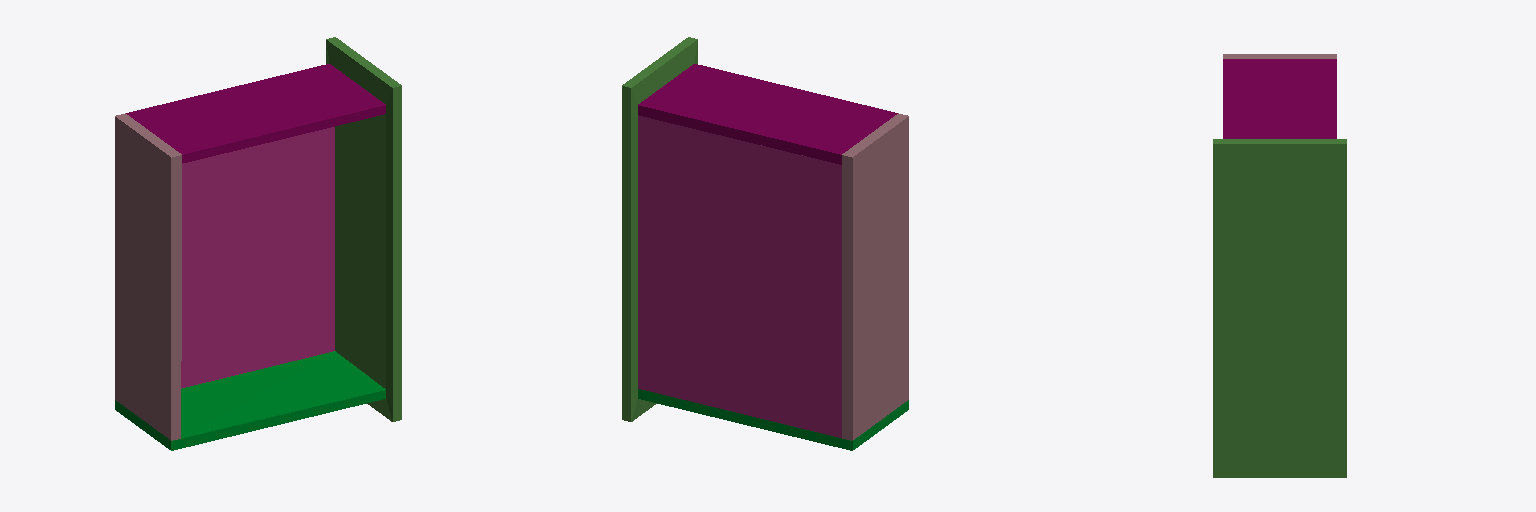
Rendered from Drawer_80_29.obj.
3 views of the same model, side by side, from view 1: azimuth 30°, elevation 25°; view 2: azimuth 150°, elevation 25°; view 3: azimuth 270°, elevation 25° (orthographic).
Visible parts, largest first — view 1: Shape_IndexedFaceSet.004_Shape_IndexedFaceSet.008, Shape_IndexedFaceSet_Shape_IndexedFaceSet.008, Shape_IndexedFaceSet.002_Shape_IndexedFaceSet.008, Shape_IndexedFaceSet.003_Shape_IndexedFaceSet.008, Shape_IndexedFaceSet.001_Shape_IndexedFaceSet.008; view 2: Shape_IndexedFaceSet.004_Shape_IndexedFaceSet.008, Shape_IndexedFaceSet.002_Shape_IndexedFaceSet.008, Shape_IndexedFaceSet.003_Shape_IndexedFaceSet.008, Shape_IndexedFaceSet_Shape_IndexedFaceSet.008, Shape_IndexedFaceSet.001_Shape_IndexedFaceSet.008; view 3: Shape_IndexedFaceSet_Shape_IndexedFaceSet.008, Shape_IndexedFaceSet.003_Shape_IndexedFaceSet.008, Shape_IndexedFaceSet.002_Shape_IndexedFaceSet.008.
Part boxes in pixels (bbox=[...]): Shape_IndexedFaceSet.004_Shape_IndexedFaceSet.008: bbox=[181, 127, 334, 388]; Shape_IndexedFaceSet_Shape_IndexedFaceSet.008: bbox=[326, 37, 401, 421]; Shape_IndexedFaceSet.002_Shape_IndexedFaceSet.008: bbox=[115, 113, 181, 440]; Shape_IndexedFaceSet.003_Shape_IndexedFaceSet.008: bbox=[126, 64, 385, 163]; Shape_IndexedFaceSet.001_Shape_IndexedFaceSet.008: bbox=[115, 351, 385, 450]; Shape_IndexedFaceSet.004_Shape_IndexedFaceSet.008: bbox=[638, 115, 841, 437]; Shape_IndexedFaceSet.002_Shape_IndexedFaceSet.008: bbox=[842, 113, 908, 440]; Shape_IndexedFaceSet.003_Shape_IndexedFaceSet.008: bbox=[638, 64, 897, 164]; Shape_IndexedFaceSet_Shape_IndexedFaceSet.008: bbox=[622, 37, 697, 421]; Shape_IndexedFaceSet.001_Shape_IndexedFaceSet.008: bbox=[638, 389, 908, 450]; Shape_IndexedFaceSet_Shape_IndexedFaceSet.008: bbox=[1213, 139, 1346, 477]; Shape_IndexedFaceSet.003_Shape_IndexedFaceSet.008: bbox=[1223, 59, 1336, 138]; Shape_IndexedFaceSet.002_Shape_IndexedFaceSet.008: bbox=[1223, 54, 1336, 58].
Size of the model in its own units: 0.5644 by 0.798 by 0.2883.